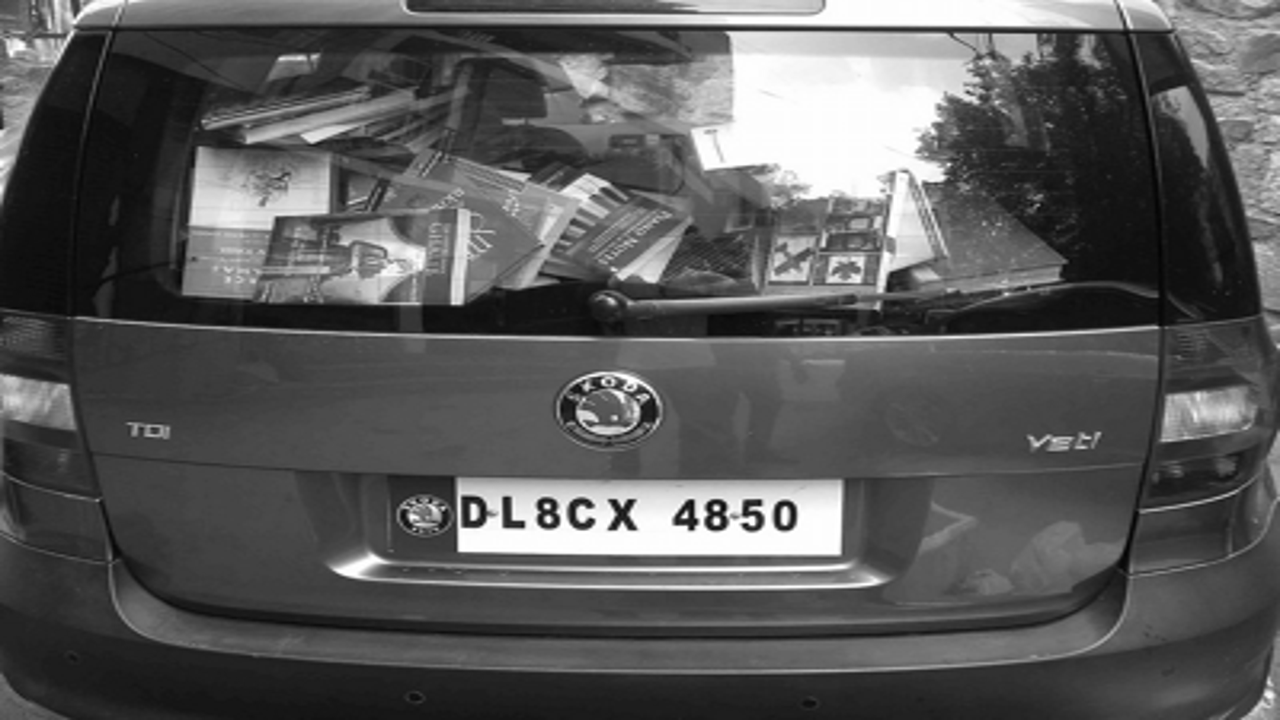license: (382, 467, 858, 577)
